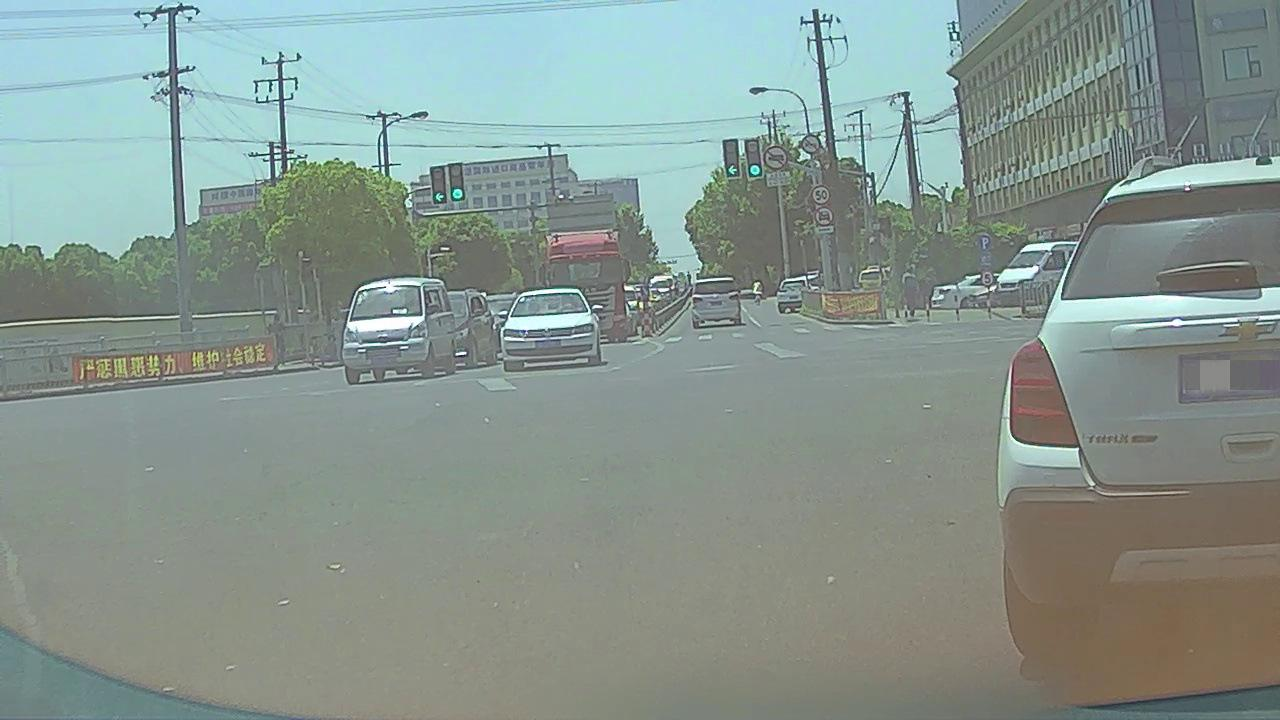traffic_light: (724, 141, 741, 178), (746, 139, 762, 178), (448, 163, 464, 201), (431, 167, 444, 204)
